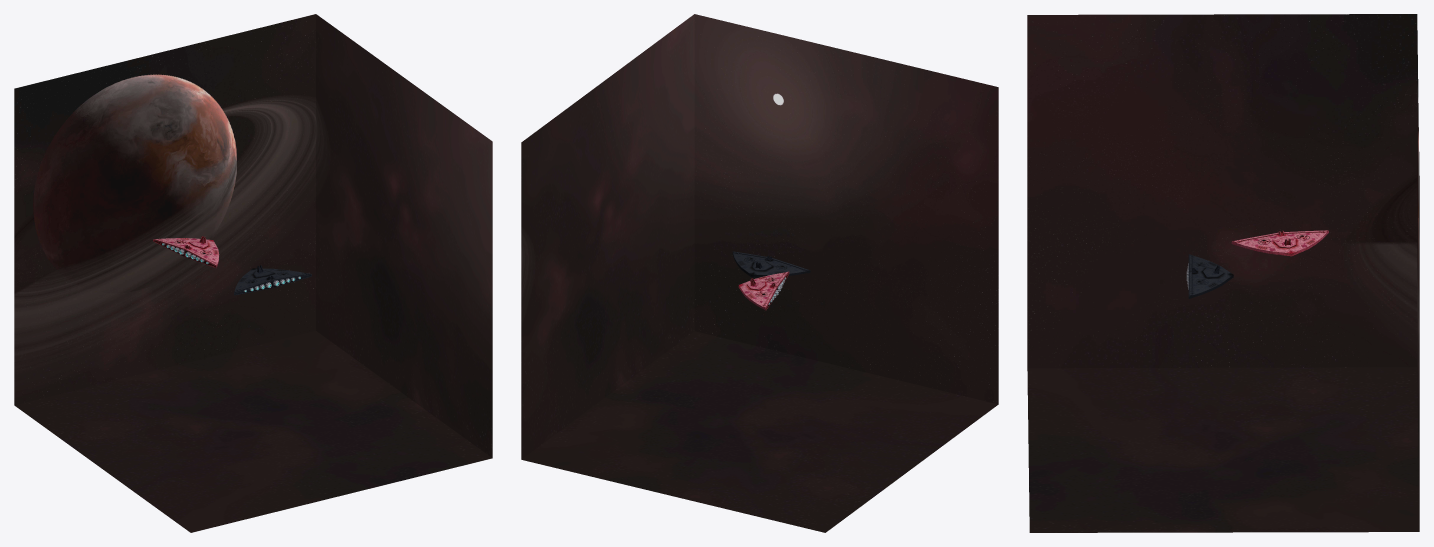
The picture shows the model from 3 angles, left to right: view 1: azimuth 30°, elevation 25°; view 2: azimuth 150°, elevation 25°; view 3: azimuth 270°, elevation 25°; orthographic projection. The views are drawn at different scales.
Visible parts, largest first — view 1: Front, Right, Down, SpaceWarship01, ShipPiece_0; view 2: Back, Right, Down, SpaceWarship01, ShipPiece_0; view 3: Left, Down, ShipPiece_0, SpaceWarship01, Front.
Part boxes in pixels (x1,y1,x2,y2): Front: (14, 14, 315, 405); Right: (316, 14, 492, 457); Down: (14, 331, 492, 532); SpaceWarship01: (234, 268, 311, 295); ShipPiece_0: (153, 238, 219, 268); Back: (694, 14, 998, 404); Right: (521, 14, 694, 459); Down: (521, 331, 998, 532); SpaceWarship01: (732, 251, 810, 277); ShipPiece_0: (738, 271, 789, 310); Left: (1027, 14, 1417, 368); Down: (1027, 367, 1419, 532); ShipPiece_0: (1231, 230, 1328, 256); SpaceWarship01: (1186, 254, 1233, 298); Front: (1417, 30, 1419, 528).
Size of the model in its own units: 1006 by 1000 by 1006.
Materials: 24 (11 with a texture image).
